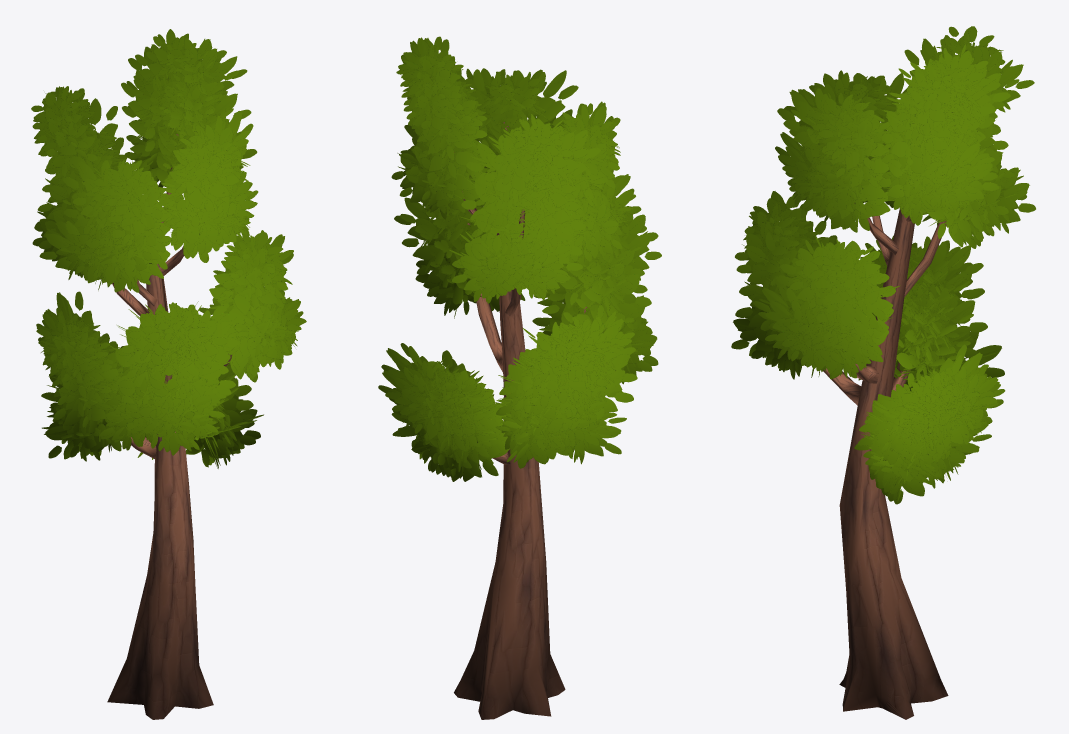
The model's file is CommonTree_3_s.gltf.
3 renders of one model, left to right at view 1: azimuth 30°, elevation 25°; view 2: azimuth 150°, elevation 25°; view 3: azimuth 270°, elevation 25°, orthographic. The views are drawn at different scales.
Visible parts, largest first — view 1: CommonTree_3; view 2: CommonTree_3; view 3: CommonTree_3.
Boxes of the visible parts, x1,y1,x2,y2 form: CommonTree_3: [31, 29, 306, 719]; CommonTree_3: [378, 36, 661, 719]; CommonTree_3: [731, 26, 1035, 719].
Size of the model in its own units: 4.06 by 9.43 by 4.24.
Materials: 2 (2 with a texture image).
